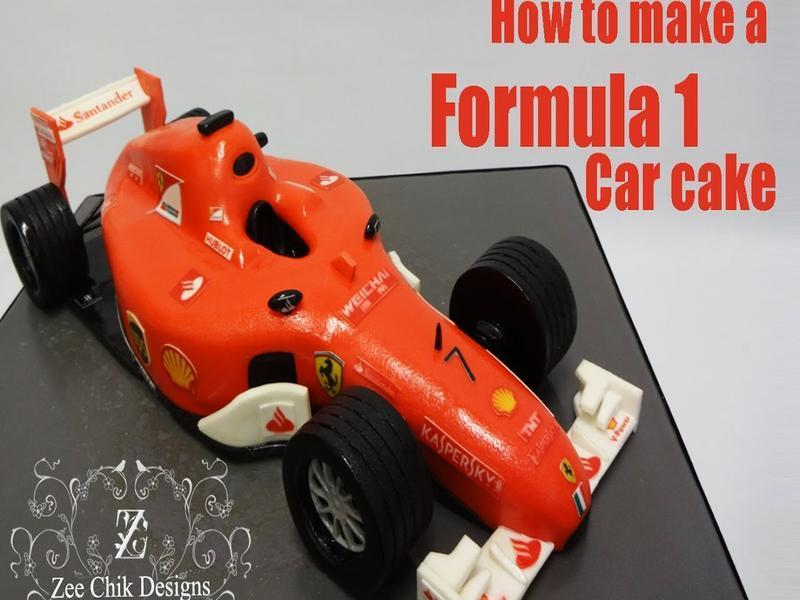f1: (6, 72, 652, 600)
